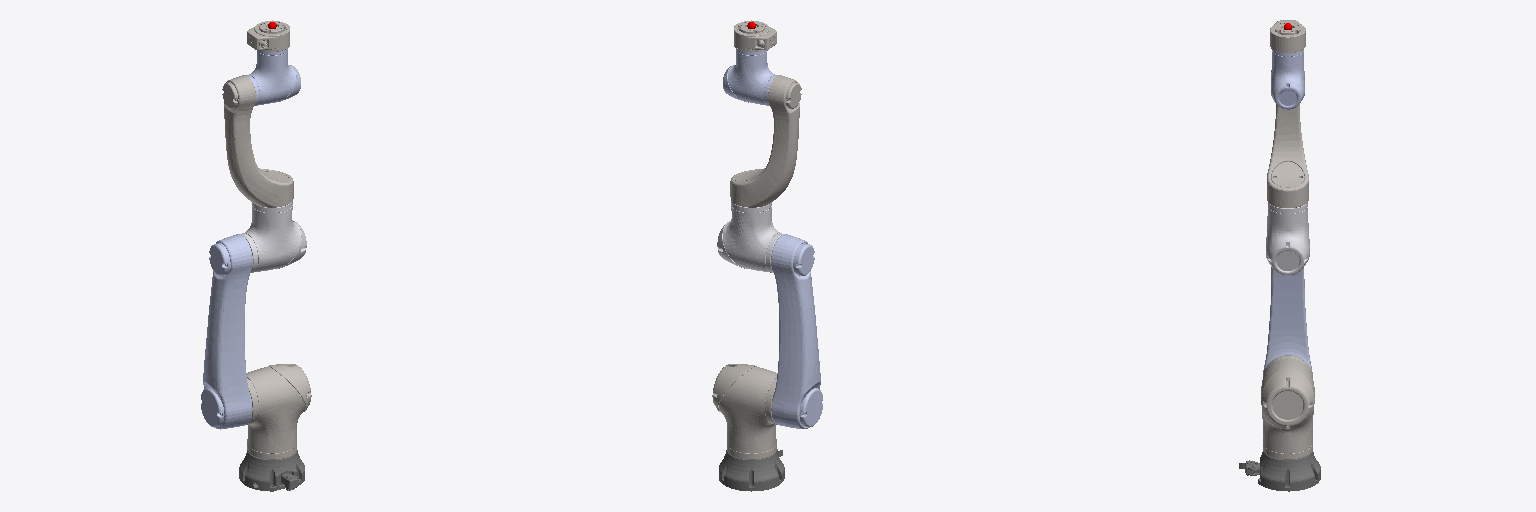
The robot description file, URDF, robot "e05":
<?xml version="1.0" encoding="utf-8"?>
<!-- This URDF was automatically created by SolidWorks to URDF Exporter! Originally created by [author] ([email redacted]) 
     Commit Version: 1.6.0-4-g7f85cfe  Build Version: 1.6.7995.38578
     For more information, please see http://wiki.ros.org/sw_urdf_exporter -->
<robot name="e05">
  <link name="base_link">
    <inertial>
      <origin xyz="0.000220925279683056 0.0013404359084179 0.0255287768765201" rpy="0 0 0" />
      <mass value="0.687947665470098" />
      <inertia ixx="0.00127042942204081" ixy="6.12560900509709E-06" ixz="1.97882529252548E-06" iyy="0.00134134377507574" iyz="1.20065256351553E-05" izz="0.00225644822073791" />
    </inertial>
    <visual>
      <origin xyz="0 0 0" rpy="0 0 0" />
      <geometry>
        <mesh filename="package://e05/meshes/base_link.STL" />
      </geometry>
      <material name="">
        <color rgba="0.501960784313725 0.501960784313725 0.501960784313725 1" />
      </material>
    </visual>
    <collision>
      <origin xyz="0 0 0" rpy="0 0 0" />
      <geometry>
        <mesh filename="package://e05/meshes/base_link.STL" />
      </geometry>
    </collision>
  </link>
  <link name="link1">
    <inertial>
      <origin xyz="-0.021817530046653 -1.3461811186172E-05 0.0953928187148821" rpy="0 0 0" />
      <mass value="2.58559317983858" />
      <inertia ixx="0.0126359214490294" ixy="1.95671999360454E-06" ixz="0.00341757743534139" iyy="0.014361538845938" iyz="1.7981198383057E-06" izz="0.00661175953100069" />
    </inertial>
    <visual>
      <origin xyz="0 0 0" rpy="0 0 0" />
      <geometry>
        <mesh filename="package://e05/meshes/link1.STL" />
      </geometry>
      <material name="">
        <color rgba="0.772549019607843 0.752941176470588 0.733333333333333 1" />
      </material>
    </visual>
    <collision>
      <origin xyz="0 0 0" rpy="0 0 0" />
      <geometry>
        <mesh filename="package://e05/meshes/link1.STL" />
      </geometry>
    </collision>
  </link>
  <joint name="joint1" type="revolute">
    <origin xyz="0 0 0.0735" rpy="0 0 0" />
    <parent link="base_link" />
    <child link="link1" />
    <axis xyz="0 0 1" />
    <limit lower="-3.14" upper="3.14" effort="100" velocity="3" />
  </joint>
  <link name="link2">
    <inertial>
      <origin xyz="4.42659189303178E-06 -0.15814020171601 0.130500502107941" rpy="0 0 0" />
      <mass value="1.21311220206786" />
      <inertia ixx="0.0154675665168731" ixy="-1.06933815462951E-06" ixz="-1.18860294267838E-07" iyy="0.00151358792659383" iyz="-0.000483103253081459" izz="0.0159645957037545" />
    </inertial>
    <visual>
      <origin xyz="0 0 0" rpy="0 0 0" />
      <geometry>
        <mesh filename="package://e05/meshes/link2.STL" />
      </geometry>
      <material name="">
        <color rgba="0.792156862745098 0.819607843137255 0.933333333333333 1" />
      </material>
    </visual>
    <collision>
      <origin xyz="0 0 0" rpy="0 0 0" />
      <geometry>
        <mesh filename="package://e05/meshes/link2.STL" />
      </geometry>
    </collision>
  </link>
  <joint name="joint2" type="revolute">
    <origin xyz="0 0 0.146499999728183" rpy="-1.5707963267949 0 1.5707963267949" />
    <parent link="link1" />
    <child link="link2" />
    <axis xyz="0 0 -1" />
    <limit lower="-3.14" upper="3.14" effort="100" velocity="3" />
  </joint>
  <link name="link3">
    <inertial>
      <origin xyz="-0.0414785547217519 1.14212505951949E-05 0.0194163580548062" rpy="0 0 0" />
      <mass value="1.53239082736874" />
      <inertia ixx="0.00289257298716264" ixy="3.06530616185161E-07" ixz="-0.00148343229721932" iyy="0.00608825361524431" iyz="-5.7781567767453E-07" izz="0.00514001710646295" />
    </inertial>
    <visual>
      <origin xyz="0 0 0" rpy="0 0 0" />
      <geometry>
        <mesh filename="package://e05/meshes/link3.STL" />
      </geometry>
      <material name="">
        <color rgba="0.866666666666667 0.866666666666667 0.890196078431372 1" />
      </material>
    </visual>
    <collision>
      <origin xyz="0 0 0" rpy="0 0 0" />
      <geometry>
        <mesh filename="package://e05/meshes/link3.STL" />
      </geometry>
    </collision>
  </link>
  <joint name="joint3" type="revolute">
    <origin xyz="0 -0.38 0" rpy="0 0 1.57079632679489" />
    <parent link="link2" />
    <child link="link3" />
    <axis xyz="0 0 -1" />
    <limit lower="-3.14" upper="3.14" effort="100" velocity="3" />
  </joint>
  <link name="link4">
    <inertial>
      <origin xyz="3.82379731650006E-05 -0.0589656283635258 -0.257080659964351" rpy="0 0 0" />
      <mass value="0.475189116858237" />
      <inertia ixx="0.00538321597965876" ixy="5.88191352016139E-07" ixz="2.51380819480274E-06" iyy="0.00486407883174174" iyz="-0.0012949821760315" izz="0.00118854539663347" />
    </inertial>
    <visual>
      <origin xyz="0 0 0" rpy="0 0 0" />
      <geometry>
        <mesh filename="package://e05/meshes/link4.STL" />
      </geometry>
      <material name="">
        <color rgba="0.772549019607843 0.752941176470588 0.733333333333333 1" />
      </material>
    </visual>
    <collision>
      <origin xyz="0 0 0" rpy="0 0 0" />
      <geometry>
        <mesh filename="package://e05/meshes/link4.STL" />
      </geometry>
    </collision>
  </link>
  <joint name="joint4" type="revolute">
    <origin xyz="0 0 0" rpy="-1.5707963267949 0 -1.57079632679489" />
    <parent link="link3" />
    <child link="link4" />
    <axis xyz="0 0 1" />
    <limit lower="-3.14" upper="3.14" effort="100" velocity="3" />
  </joint>
  <link name="link5">
    <inertial>
      <origin xyz="1.42418460181785E-06 0.0365906117084953 -0.0159721548504695" rpy="0 0 0" />
      <mass value="0.811918650983764" />
      <inertia ixx="0.00229898051081146" ixy="-5.10817363805077E-09" ixz="-4.20348106546399E-08" iyy="0.00102314555994569" iyz="-0.000567279919860914" izz="0.00189010227085576" />
    </inertial>
    <visual>
      <origin xyz="0 0 0" rpy="0 0 0" />
      <geometry>
        <mesh filename="package://e05/meshes/link5.STL" />
      </geometry>
      <material name="">
        <color rgba="0.792156862745098 0.819607843137255 0.933333333333333 1" />
      </material>
    </visual>
    <collision>
      <origin xyz="0 0 0" rpy="0 0 0" />
      <geometry>
        <mesh filename="package://e05/meshes/link5.STL" />
      </geometry>
    </collision>
  </link>
  <joint name="joint5" type="revolute">
    <origin xyz="0 0 -0.42" rpy="-1.5708 0 0" />
    <parent link="link4" />
    <child link="link5" />
    <axis xyz="0 0 1" />
    <limit lower="-3.14" upper="3.14" effort="100" velocity="3" />
  </joint>
  <link name="link6">
    <inertial>
      <origin xyz="-3.20651942295259E-05 0.00725491905169374 -0.0214379588098472" rpy="0 0 0" />
      <mass value="0.113428742525395" />
      <inertia ixx="7.66530651028687E-05" ixy="-1.83940830200086E-07" ixz="4.80935616864806E-08" iyy="7.49230724493532E-05" iyz="2.34293413050866E-06" izz="0.000127800814887741" />
    </inertial>
    <visual>
      <origin xyz="0 0 0" rpy="0 0 0" />
      <geometry>
        <mesh filename="package://e05/meshes/link6.STL" />
      </geometry>
      <material name="">
        <color rgba="0.776470588235294 0.756862745098039 0.737254901960784 1" />
      </material>
    </visual>
    <collision>
      <origin xyz="0 0 0" rpy="0 0 0" />
      <geometry>
        <mesh filename="package://e05/meshes/link6.STL" />
      </geometry>
    </collision>
  </link>
  <joint name="joint6" type="revolute">
    <origin xyz="0 0.155 0" rpy="-1.5708 0 0" />
    <parent link="link5" />
    <child link="link6" />
    <axis xyz="0 0 -1" />
    <limit lower="-3.14" upper="3.14" effort="100" velocity="3" />
  </joint>
<link name="ee_link">
  <visual>
    <origin xyz="0 0 0" rpy="0 0 0" />
    <geometry>
      <sphere radius="0.01" /> <!-- You can use any simple geometry like a sphere for visualization -->
    </geometry>
    <material name="">
      <color rgba="1 0 0 1" /> <!-- Choose a color for visualization -->
    </material>
  </visual>
</link>

<joint name="ee_joint" type="fixed">
  <origin xyz="0 0 0" rpy="0 0 0" />
  <parent link="link6" />
  <child link="ee_link" />
</joint>

<disable_collisions link1="base_link" link2="link1" reason="Adjacent" />


</robot>

--- Facts derived from the render (not from the file) ---
Views: 3 orthographic renders of the robot side by side, from view 1: azimuth 30°, elevation 25°; view 2: azimuth 150°, elevation 25°; view 3: azimuth 270°, elevation 25°.
Robot: e05 — 8 links, 7 joints (6 revolute, 1 fixed); root link base_link; default pose: all joints at 0.
Visible links, largest first — view 1: link2, link1, link4, link3, link5, base_link, link6; view 2: link2, link1, link4, link3, link5, base_link, link6; view 3: link1, link4, link2, link3, base_link, link5, link6.
Link boxes in pixels (x1,y1,x2,y2): link2: (201, 234, 252, 429); link1: (246, 364, 311, 459); link4: (222, 75, 293, 207); link3: (241, 201, 306, 272); link5: (246, 48, 300, 105); base_link: (239, 450, 304, 491); link6: (247, 20, 289, 51); link2: (771, 234, 822, 428); link1: (712, 364, 777, 459); link4: (730, 75, 801, 207); link3: (717, 201, 782, 272); link5: (723, 48, 777, 105); base_link: (719, 449, 784, 491); link6: (734, 20, 776, 51); link1: (1261, 356, 1314, 459); link4: (1267, 70, 1308, 207); link2: (1263, 267, 1312, 374); link3: (1266, 203, 1309, 275); base_link: (1239, 451, 1320, 491); link5: (1271, 49, 1304, 109); link6: (1270, 20, 1305, 52).
Size in the robot's own frame: 0.2571 by 0.1934 by 1.19 metres.
7 mesh visuals loaded from 7 distinct referenced files (7 binary STL).